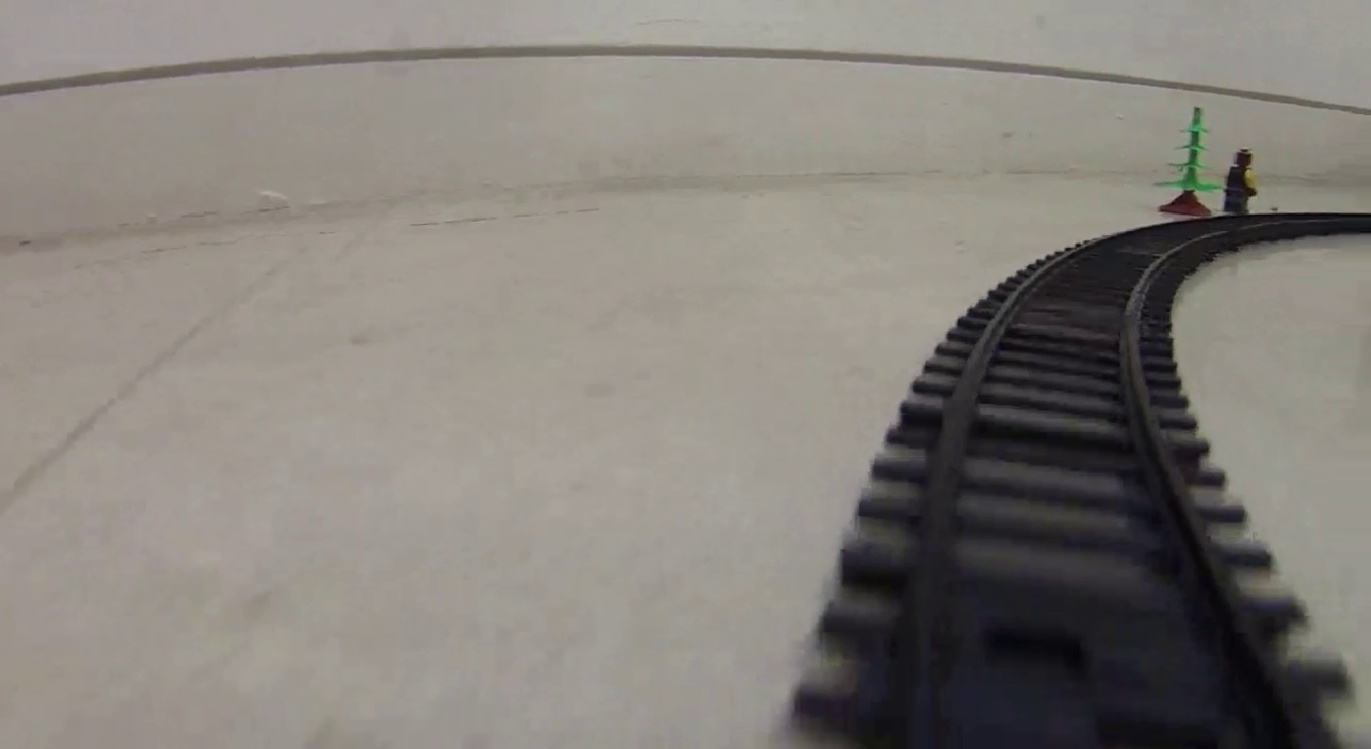people: (1222, 148, 1258, 213)
tree: (1154, 106, 1223, 216)
